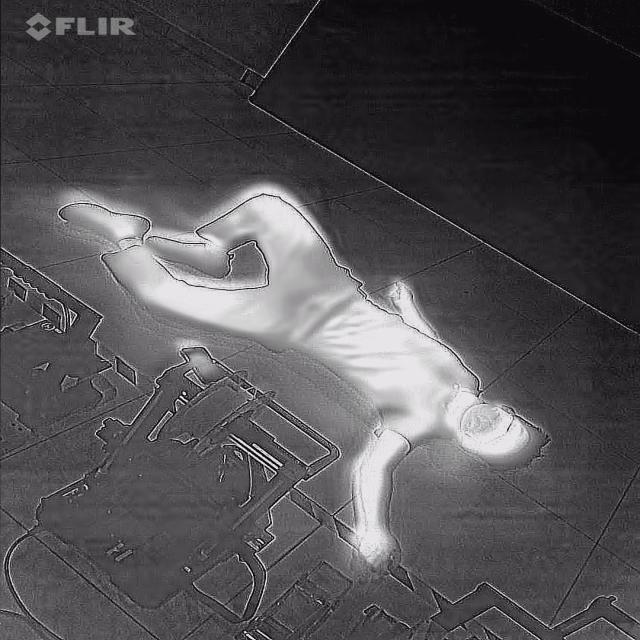Victim: (43, 166, 567, 595)
